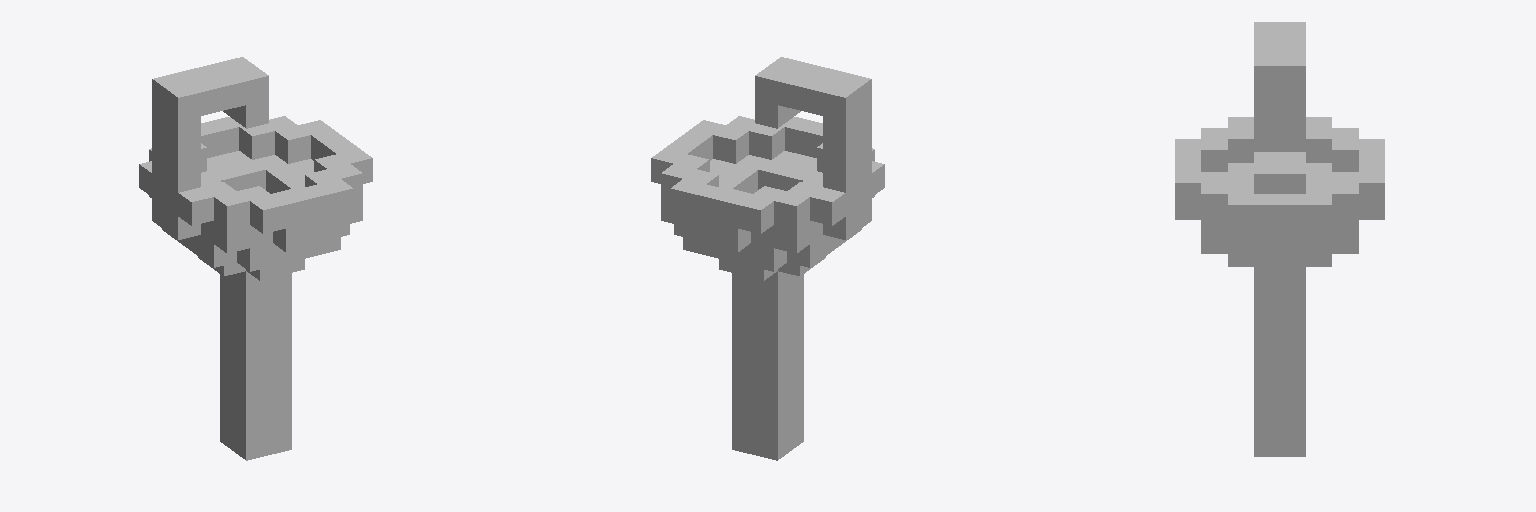
File: Bathroom_sink_Gold.obj
The picture shows the model from 3 angles: view 1: azimuth 30°, elevation 25°; view 2: azimuth 150°, elevation 25°; view 3: azimuth 270°, elevation 25°; orthographic projection.
Parts seen in each view (by area): view 1: Golden_Bathroom_Sink; view 2: Golden_Bathroom_Sink; view 3: Golden_Bathroom_Sink.
Part boxes in pixels (x1,y1,x2,y2): Golden_Bathroom_Sink: (139, 57, 372, 460); Golden_Bathroom_Sink: (651, 57, 884, 460); Golden_Bathroom_Sink: (1175, 22, 1384, 456).
Bounding box in the file's own units: 8 × 16 × 8.